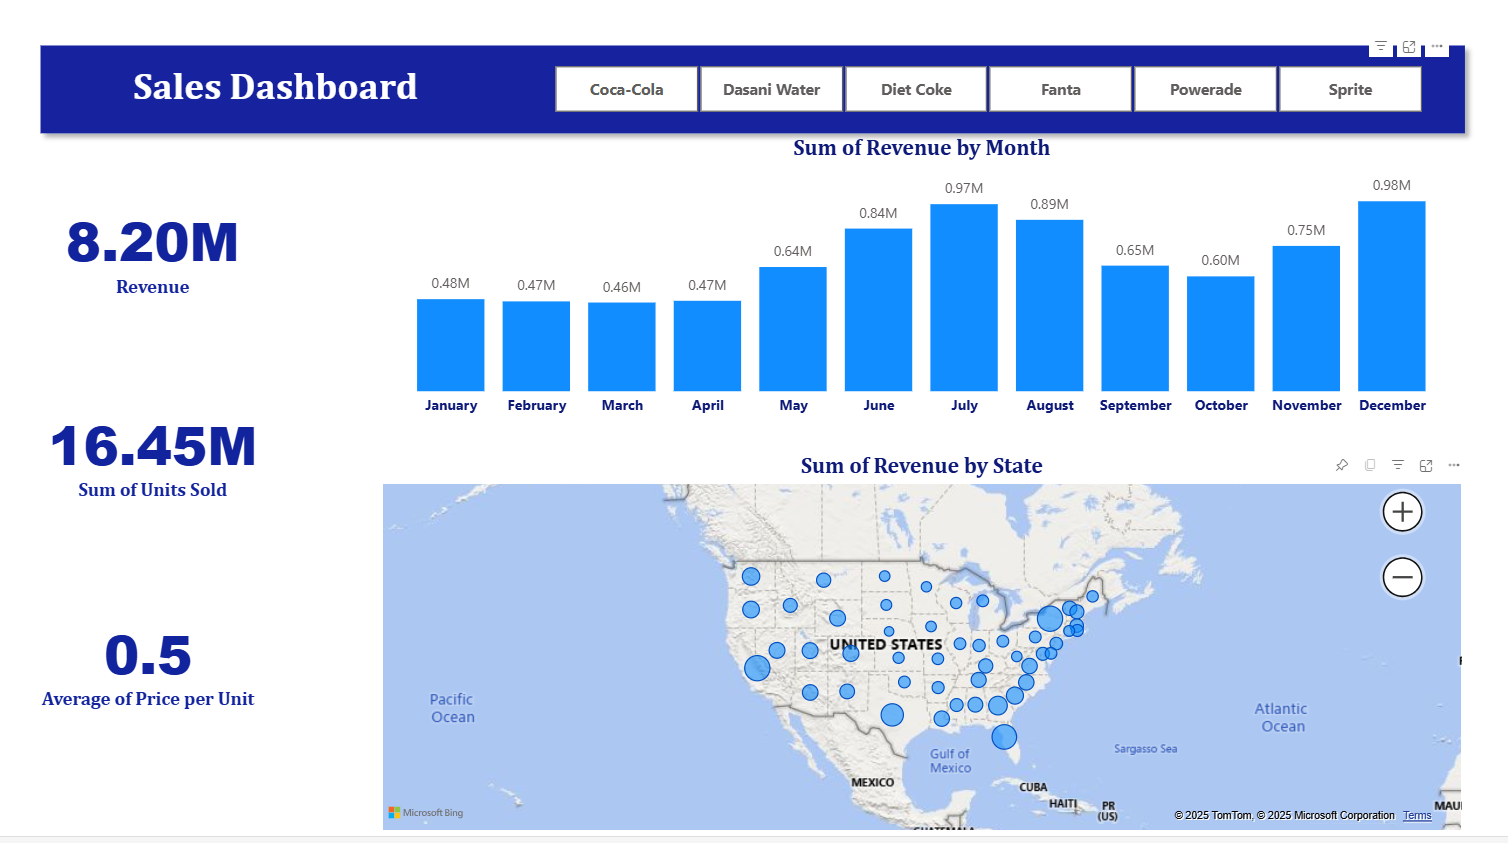

What the dashboard file says about the page in this screenshot:
{"tool":"powerbi","page":{"name":"Page 1","canvas":[1280,720],"ordinal":0},"visuals":[{"type":"shape","box":[21.4,35,1236.2,93.4],"z":0},{"type":"card","fields":{"Values":["Sum(Data.Revenue)"]},"box":[29.2,147.8,194.5,143],"z":1000},{"type":"card","fields":{"Values":["Sum(Data.Units Sold)"]},"box":[29.2,322.9,194.5,140.1],"z":2000},{"type":"card","fields":{"Values":["Avg(Data.Price per Unit)"]},"box":[21.4,497,202.3,150.8],"z":3000},{"type":"columnChart","title":"Sum of Revenue by Month","fields":{"Y":["Sum(Data.Revenue)"],"Category":["Data.Month Name"]},"box":[318.1,119.6,931.8,250],"z":4000},{"type":"map","fields":{"Size":["Sum(Data.Revenue)"],"Category":["Data.State"]},"box":[318.1,392,931.8,327.8],"z":5000},{"type":"slicer","fields":{"Values":["Data.Beverage Brand"]},"box":[444.5,54.5,790.8,53.5],"z":6000},{"type":"textbox","box":[36,54.5,391,53.5],"z":7000}]}

Visuals, with their boxes in screenshot pixels (x1, y1, x2, y2), scaled from the page's 1280x720 canvas onto the 1508x843 screenshot:
shape: <box>25,41,1482,150</box>
card - Sum(Data.Revenue): <box>34,173,264,340</box>
card - Sum(Data.Units Sold): <box>34,378,264,542</box>
card - Avg(Data.Price per Unit): <box>25,582,264,758</box>
"Sum of Revenue by Month" columnChart: <box>375,140,1473,433</box>
map - Sum(Data.Revenue) x Data.State: <box>375,459,1473,842</box>
slicer - Data.Beverage Brand: <box>524,64,1455,126</box>
textbox: <box>42,64,503,126</box>
